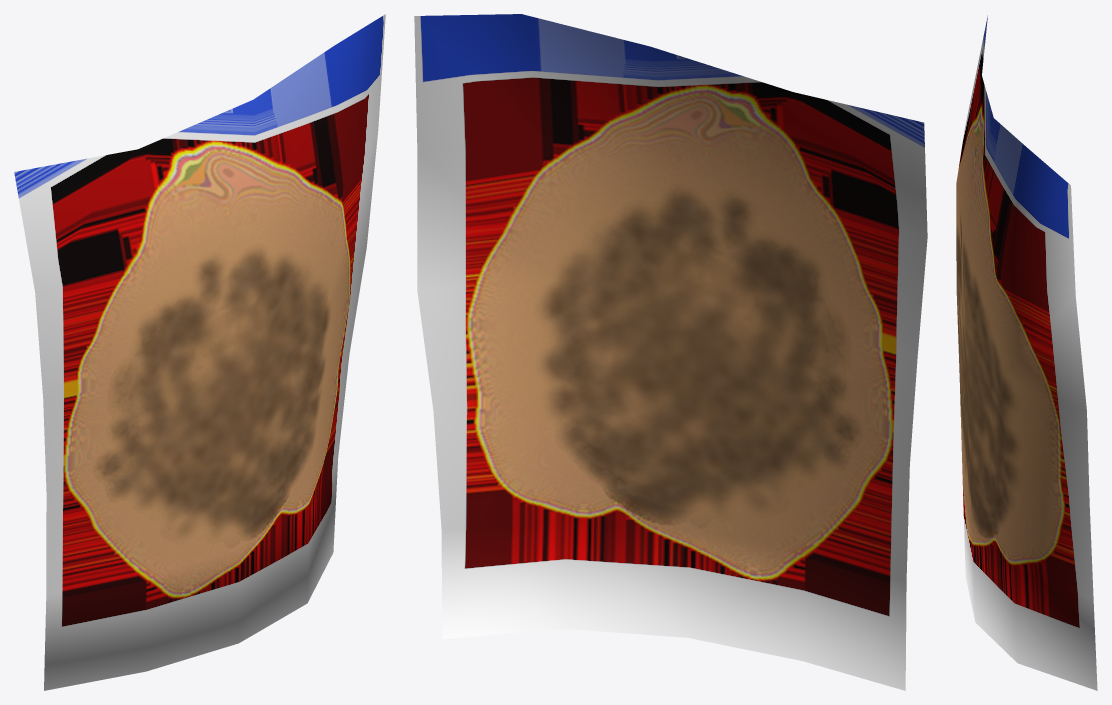
Rendered from Dirt.fbx.
3 renders of one model, left to right at view 1: azimuth 30°, elevation 25°; view 2: azimuth 150°, elevation 25°; view 3: azimuth 270°, elevation 25°, orthographic. The views are drawn at different scales.
Parts seen in each view (by area): view 1: Dirt; view 2: Dirt; view 3: Dirt.
Boxes of the visible parts, bbox=[...] form: Dirt: bbox=[14, 14, 385, 690]; Dirt: bbox=[414, 14, 927, 690]; Dirt: bbox=[956, 15, 1097, 690].
Bounding box in the file's own units: 24.97 × 31.64 × 7.58.
